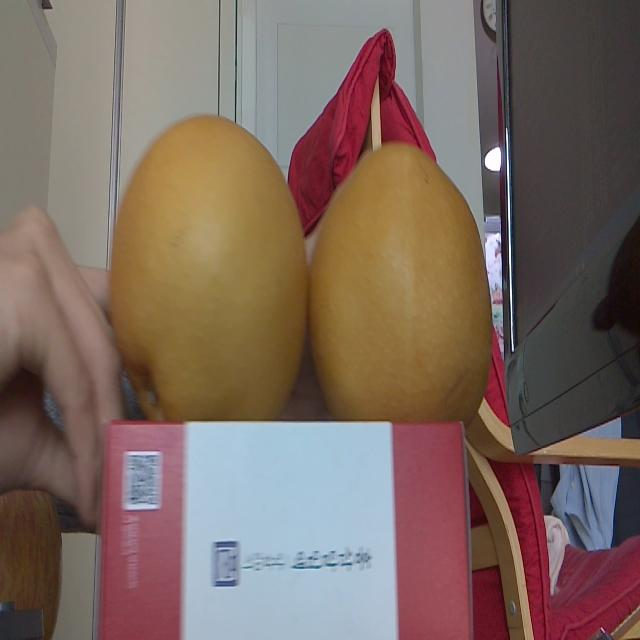pear: (109, 114, 308, 418), (309, 140, 494, 420)
